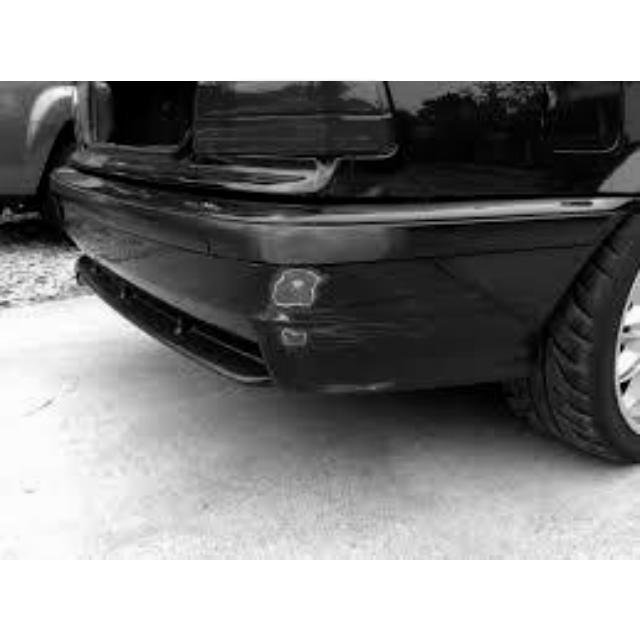rear-bumper-dent: (213, 216, 385, 376)
